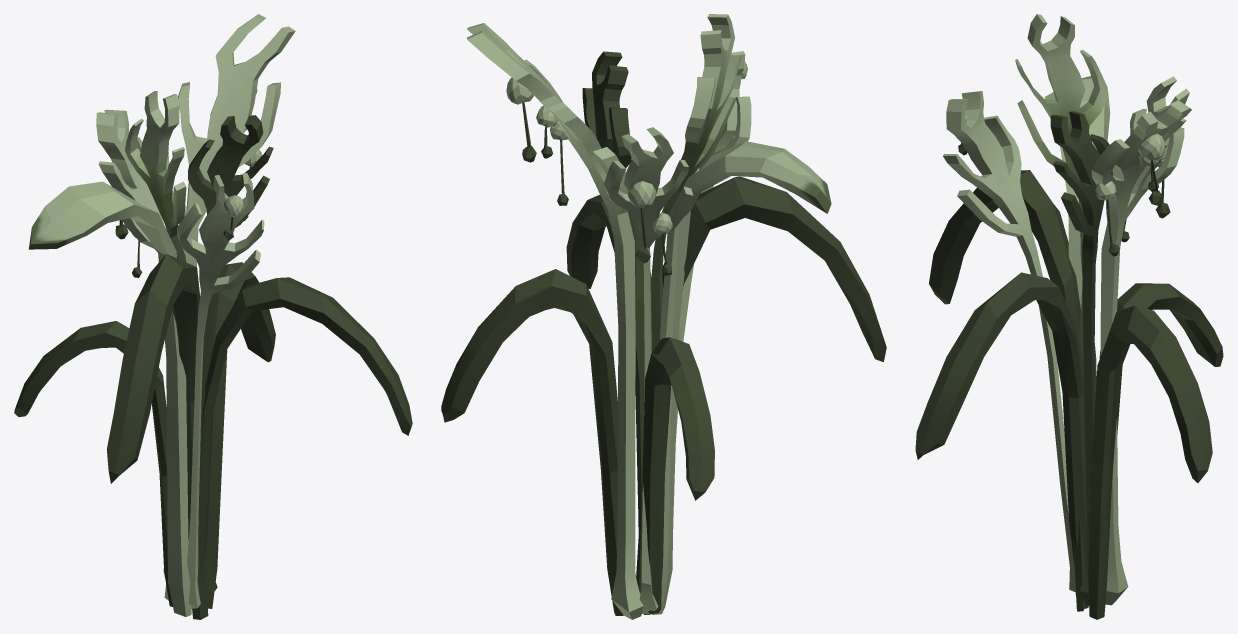
File: EA_Swamp_LeafFruits_02b.glb
3 renders of one model, left to right at view 1: azimuth 30°, elevation 25°; view 2: azimuth 150°, elevation 25°; view 3: azimuth 270°, elevation 25°, orthographic. The views are drawn at different scales.
Parts seen in each view (by area): view 1: EA_Swamp_LeafFruits_02b; view 2: EA_Swamp_LeafFruits_02b; view 3: EA_Swamp_LeafFruits_02b.
Part boxes in pixels (x1,y1,x2,y2): EA_Swamp_LeafFruits_02b: (14,14,412,619); EA_Swamp_LeafFruits_02b: (441,14,886,619); EA_Swamp_LeafFruits_02b: (915,14,1223,619).
Size of the model in its own units: 3.14 by 5.3 by 2.6.
Materials: 1 (1 with a texture image).
